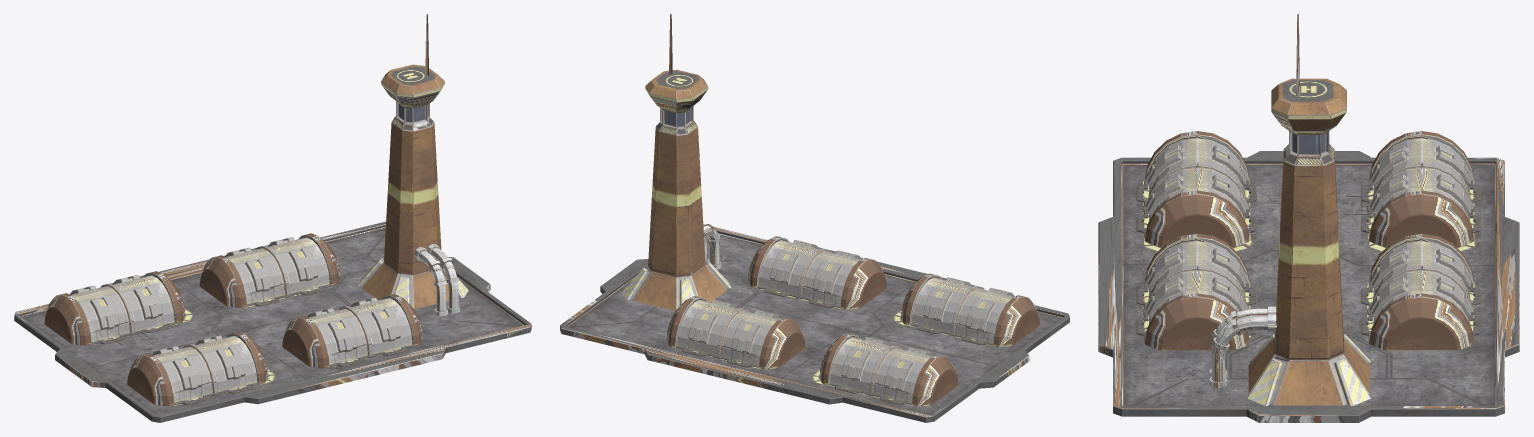
File: airfield.glb
3 views of the same model, side by side, from view 1: azimuth 30°, elevation 25°; view 2: azimuth 150°, elevation 25°; view 3: azimuth 270°, elevation 25° (orthographic). The views are drawn at different scales.
Parts seen in each view (by area): view 1: defaultMaterial; view 2: defaultMaterial; view 3: defaultMaterial.
Part boxes in pixels (left/top/right/bottom): defaultMaterial: left=14, top=14, right=531, bottom=422; defaultMaterial: left=560, top=14, right=1069, bottom=422; defaultMaterial: left=1098, top=14, right=1519, bottom=422.
Bounding box in the file's own units: 1 × 0.6748 × 0.6733.
1 material, 1 textured.
